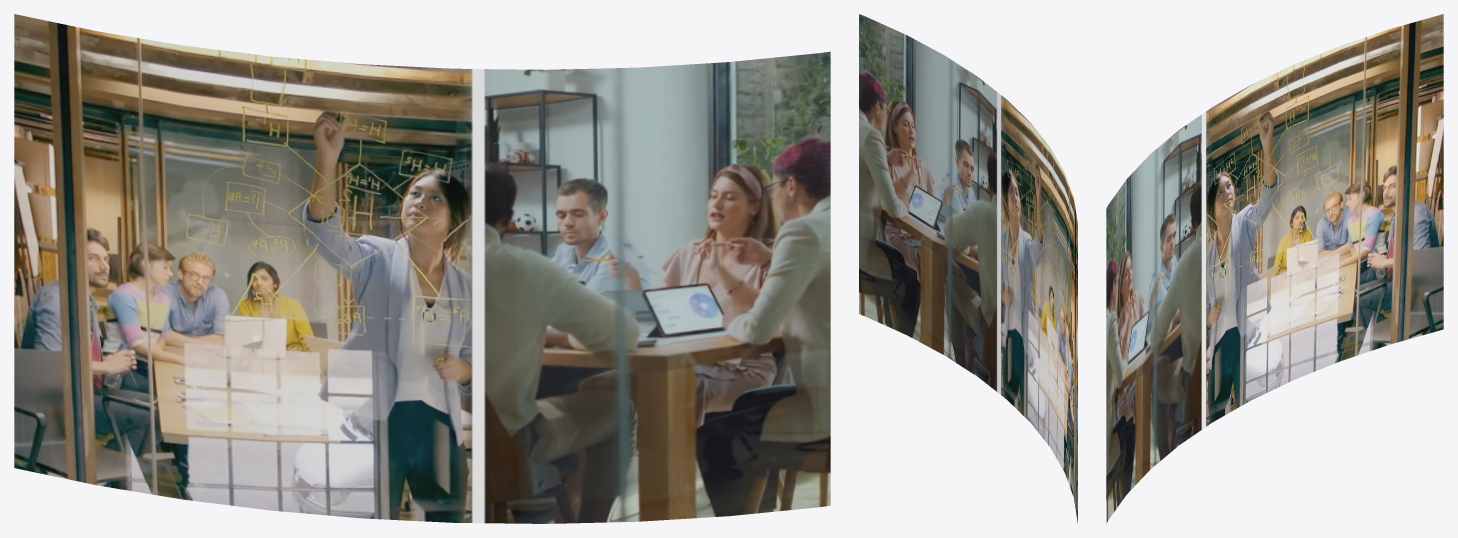
Rendered from TZ_Curved_screens_03.glb.
3 views of the same model, side by side, from view 1: azimuth 30°, elevation 25°; view 2: azimuth 150°, elevation 25°; view 3: azimuth 270°, elevation 25° (orthographic). The views are drawn at different scales.
Visible parts, largest first — view 1: TZ_Curved_screens_03; view 2: TZ_Curved_screens_03; view 3: TZ_Curved_screens_03.
Boxes of the visible parts, x1=… form: TZ_Curved_screens_03: x1=14, y1=14, x2=830, y2=523; TZ_Curved_screens_03: x1=859, y1=14, x2=1077, y2=523; TZ_Curved_screens_03: x1=1106, y1=14, x2=1443, y2=523.
Size of the model in its own units: 2.8 by 2.12 by 2.05.
Materials: 1 (1 with a texture image).
